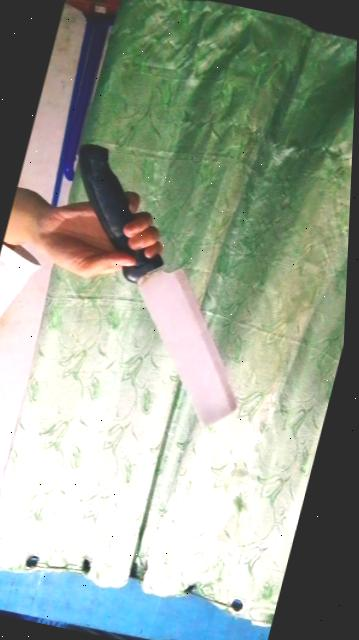long knife: (17, 140, 294, 437)
